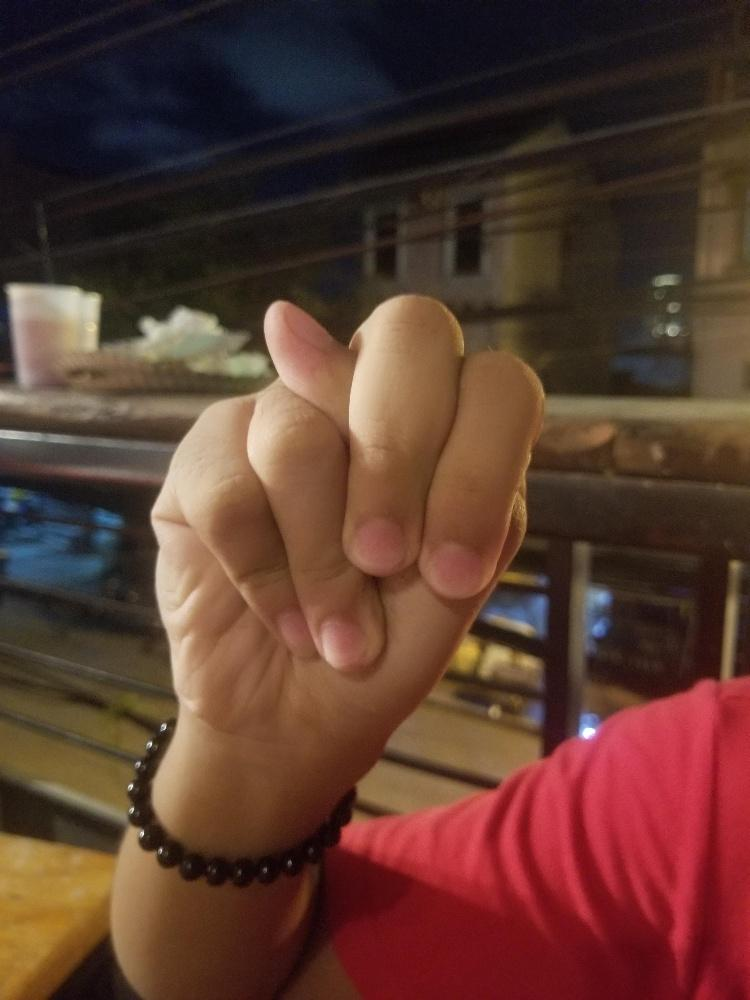n: (147, 290, 546, 754)
